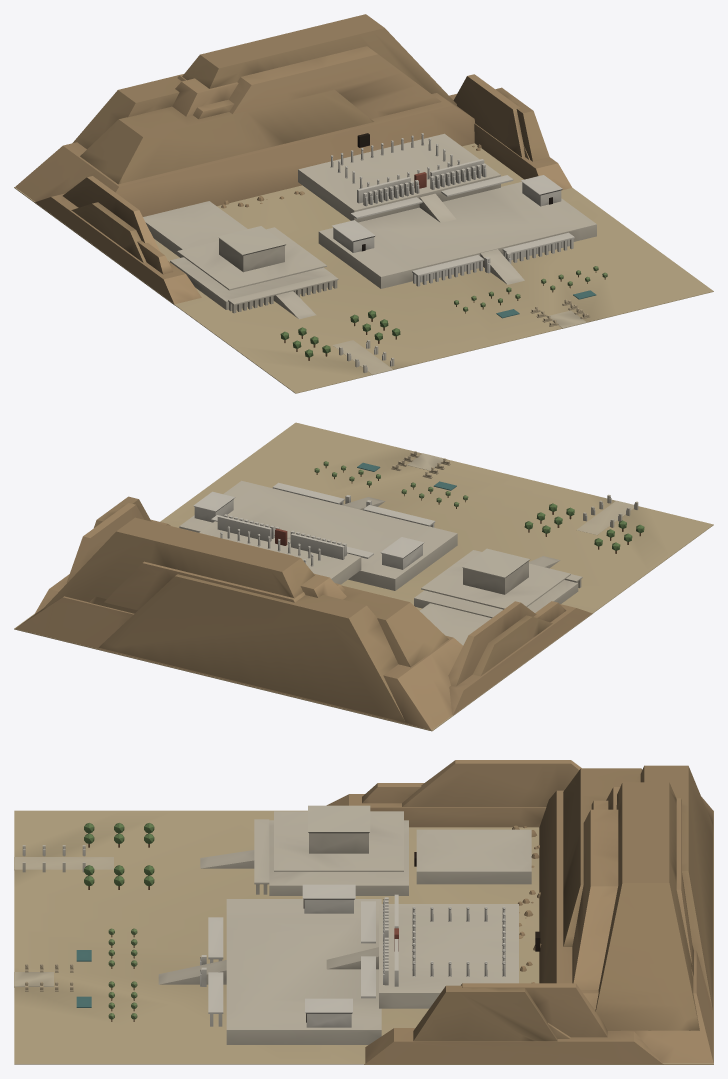
The model's file is deir-el-bahari.glb.
3 renders of one model, top to bottom at view 1: azimuth 30°, elevation 25°; view 2: azimuth 150°, elevation 25°; view 3: azimuth 270°, elevation 25°, orthographic. The views are drawn at different scales.
Parts seen in each view (by area): view 1: p0_cliff, p1_terraces, p2_colonnades, p3_statues; view 2: p0_cliff, p1_terraces, p3_statues, p2_colonnades; view 3: p0_cliff, p1_terraces, p2_colonnades, p3_statues.
Boxes of the visible parts, <box> form: p0_cliff: <box>14,14,713,393</box>; p1_terraces: <box>143,133,596,319</box>; p2_colonnades: <box>330,133,574,286</box>; p3_statues: <box>280,252,607,373</box>; p0_cliff: <box>14,422,713,731</box>; p1_terraces: <box>179,480,582,645</box>; p3_statues: <box>314,451,644,553</box>; p2_colonnades: <box>211,482,435,566</box>; p0_cliff: <box>14,760,713,1064</box>; p1_terraces: <box>158,805,531,1044</box>; p2_colonnades: <box>208,897,540,1026</box>; p3_statues: <box>22,823,206,1021</box>.
Size of the model in its own units: 240 by 57.79 by 280.
